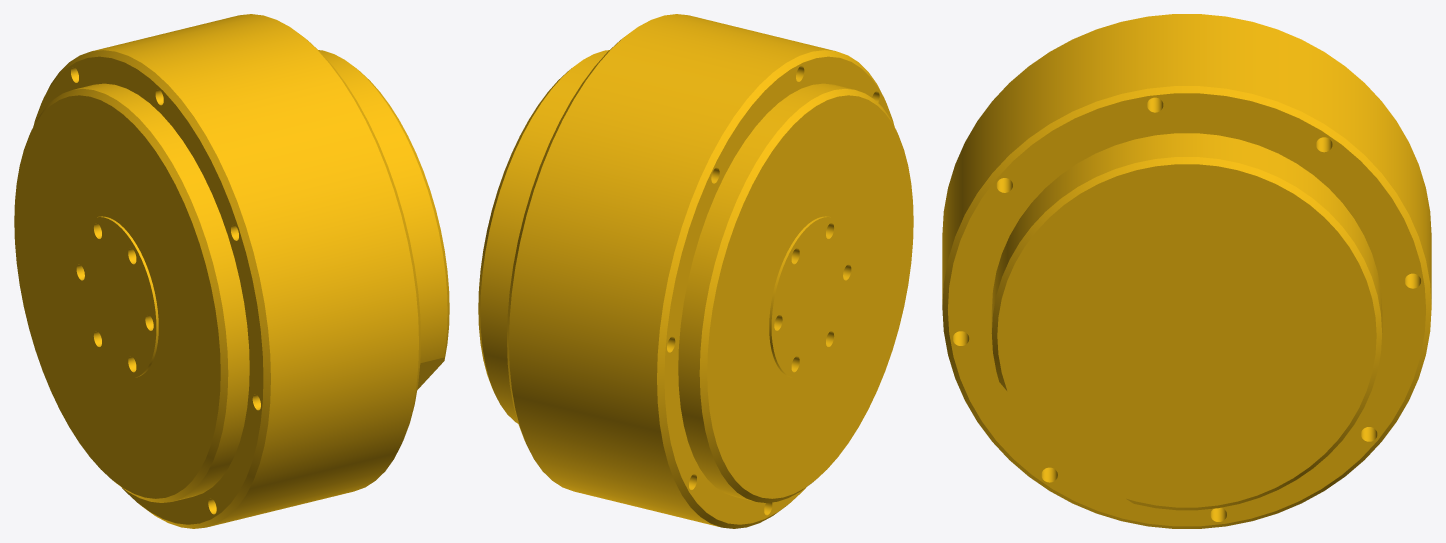
File: Robot_Master Copy 1 - Part 1 (6).gltf
The picture shows the model from 3 angles, left to right: view 1: azimuth 30°, elevation 25°; view 2: azimuth 150°, elevation 25°; view 3: azimuth 270°, elevation 25°; orthographic projection.
Parts seen in each view (by area): view 1: Part 1; view 2: Part 1; view 3: Part 1.
Boxes of the visible parts, x1,y1,x2,y2 form: Part 1: (14,14,449,528); Part 1: (478,14,913,528); Part 1: (942,14,1431,528).
Size of the model in its own units: 0.0503 by 0.0889 by 0.089.
